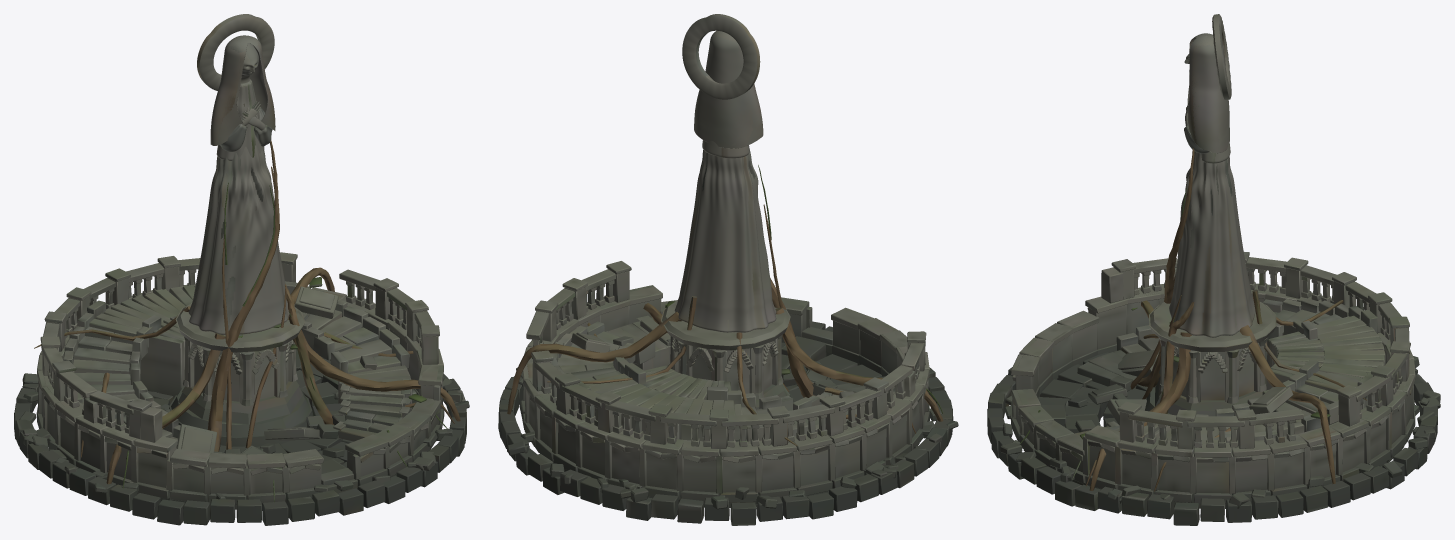
File: rootbound_saint.glb
3 views of the same model, side by side, from view 1: azimuth 30°, elevation 25°; view 2: azimuth 150°, elevation 25°; view 3: azimuth 270°, elevation 25° (orthographic).
Parts seen in each view (by area): view 1: Terrace_OuterWall, Terrace_Floor, Terrace_Balustrades, Saint_Robe, Stairs_Right, Root_Primary, Stairs_Landings, Stairs_Left, Pedestal_Panels, Pedestal_Base, Saint_Hood, Rubble (+7 smaller); view 2: Terrace_OuterWall, Terrace_Balustrades, Terrace_Floor, Saint_Robe, Stairs_Landings, Saint_Hood, Root_Primary, Pedestal_Panels, Stairs_Right, Saint_Halo, Rubble, Pedestal_Cornices (+3 smaller); view 3: Terrace_OuterWall, Terrace_Balustrades, Terrace_Floor, Saint_Robe, Stairs_Landings, Root_Primary, Pedestal_Panels, Saint_Hood, Stairs_Right, Stairs_Left, Rubble, Pedestal_Cornices (+6 smaller).
Part boxes in pixels (bbox=[...]): Terrace_OuterWall: bbox=[36, 284, 444, 509]; Terrace_Floor: bbox=[14, 349, 466, 525]; Terrace_Balustrades: bbox=[40, 252, 439, 442]; Saint_Robe: bbox=[188, 145, 289, 334]; Stairs_Right: bbox=[285, 281, 410, 441]; Root_Primary: bbox=[106, 166, 460, 484]; Stairs_Landings: bbox=[89, 285, 412, 453]; Stairs_Left: bbox=[63, 300, 180, 448]; Pedestal_Panels: bbox=[183, 337, 297, 406]; Pedestal_Base: bbox=[169, 381, 313, 446]; Saint_Hood: bbox=[210, 35, 275, 145]; Rubble: bbox=[19, 373, 469, 499]; Terrace_OuterWall: bbox=[522, 285, 929, 507]; Terrace_Balustrades: bbox=[526, 261, 926, 448]; Terrace_Floor: bbox=[498, 321, 953, 525]; Saint_Robe: bbox=[674, 148, 776, 332]; Stairs_Landings: bbox=[578, 321, 865, 441]; Saint_Hood: bbox=[694, 30, 763, 148]; Root_Primary: bbox=[507, 278, 943, 421]; Pedestal_Panels: bbox=[670, 334, 783, 399]; Stairs_Right: bbox=[550, 315, 670, 405]; Saint_Halo: bbox=[682, 14, 760, 99]; Rubble: bbox=[507, 331, 958, 509]; Pedestal_Cornices: bbox=[661, 300, 790, 350]; Terrace_OuterWall: bbox=[1010, 283, 1415, 508]; Terrace_Balustrades: bbox=[1101, 252, 1410, 449]; Terrace_Floor: bbox=[987, 350, 1437, 525]; Saint_Robe: bbox=[1169, 151, 1255, 337]; Stairs_Landings: bbox=[1077, 315, 1385, 440]; Root_Primary: bbox=[1089, 175, 1335, 490]; Pedestal_Panels: bbox=[1158, 338, 1267, 403]; Saint_Hood: bbox=[1187, 33, 1229, 153]; Stairs_Right: bbox=[1074, 359, 1372, 442]; Stairs_Left: bbox=[1116, 298, 1377, 353]; Rubble: bbox=[1000, 356, 1440, 508]; Pedestal_Cornices: bbox=[1149, 302, 1276, 351].
Size of the model in its own units: 16.55 by 16.79 by 16.63.
1 material, 1 textured.
